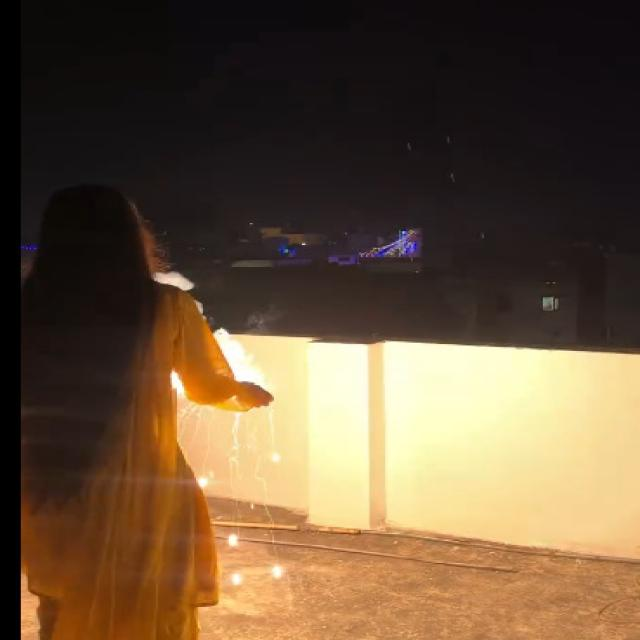fire: (213, 327, 263, 389)
